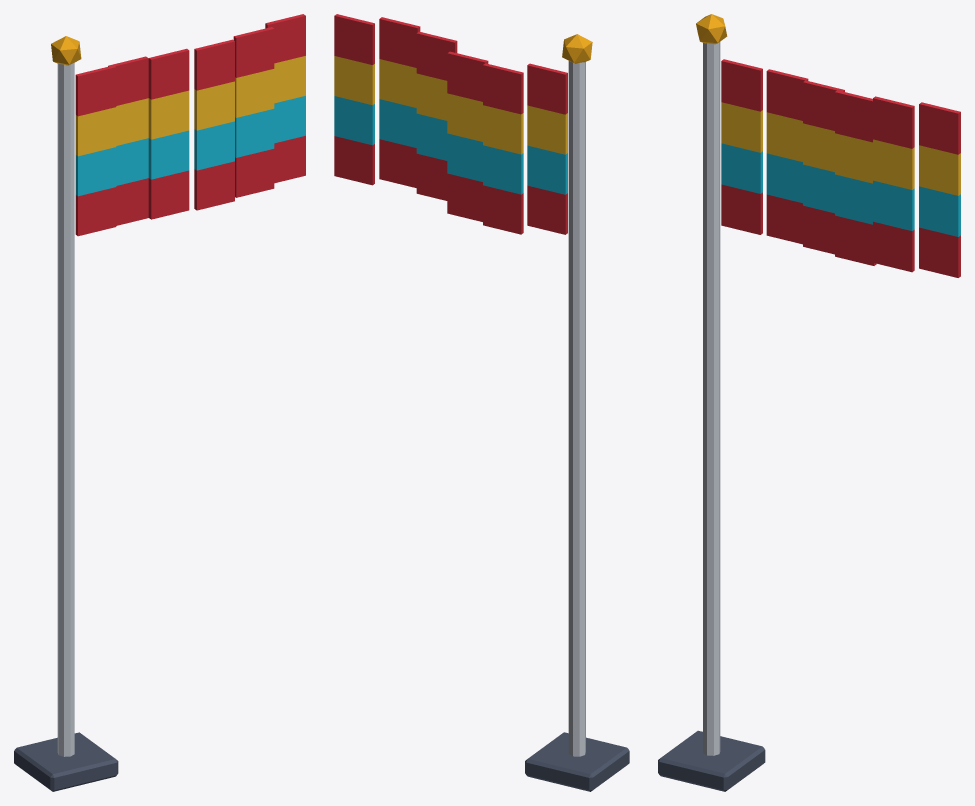
Rendered from FlagPole_Racing.fbx.
3 views of the same model, side by side, from view 1: azimuth 30°, elevation 25°; view 2: azimuth 150°, elevation 25°; view 3: azimuth 330°, elevation 25° (orthographic). The views are drawn at different scales.
Visible parts, largest first — view 1: FlagPole_Racing; view 2: FlagPole_Racing; view 3: FlagPole_Racing.
Part boxes in pixels (bbox=[...]): FlagPole_Racing: bbox=[14, 14, 305, 791]; FlagPole_Racing: bbox=[334, 14, 629, 791]; FlagPole_Racing: bbox=[658, 14, 960, 791].
Size of the model in its own units: 6.45 by 16.55 by 1.6.
1 material, 1 textured.
